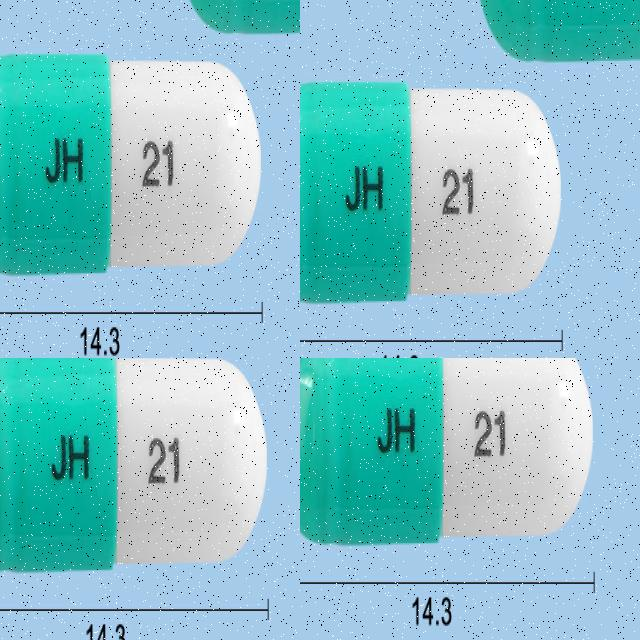Doxymedi: (0, 358, 191, 579)
Flunazole Cap: (300, 358, 595, 542)
Levofloxacin Tab- Withus: (91, 108, 251, 358)
Vemlidy Tab: (300, 105, 546, 305)
